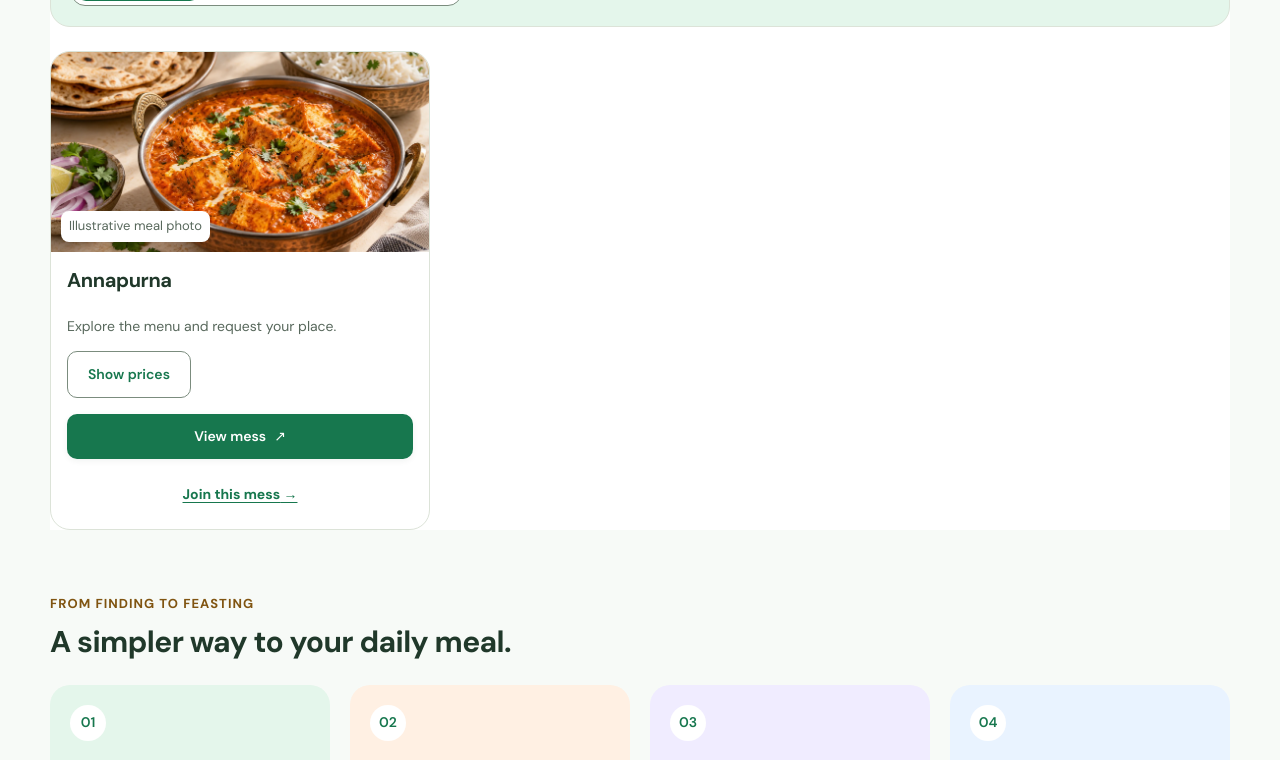
loads public price comparisons on demand and scopes both reads to the card kitchen
(page scrolled)
Click the button "Show prices". click: (129, 374)
box: [67,351,191,398]
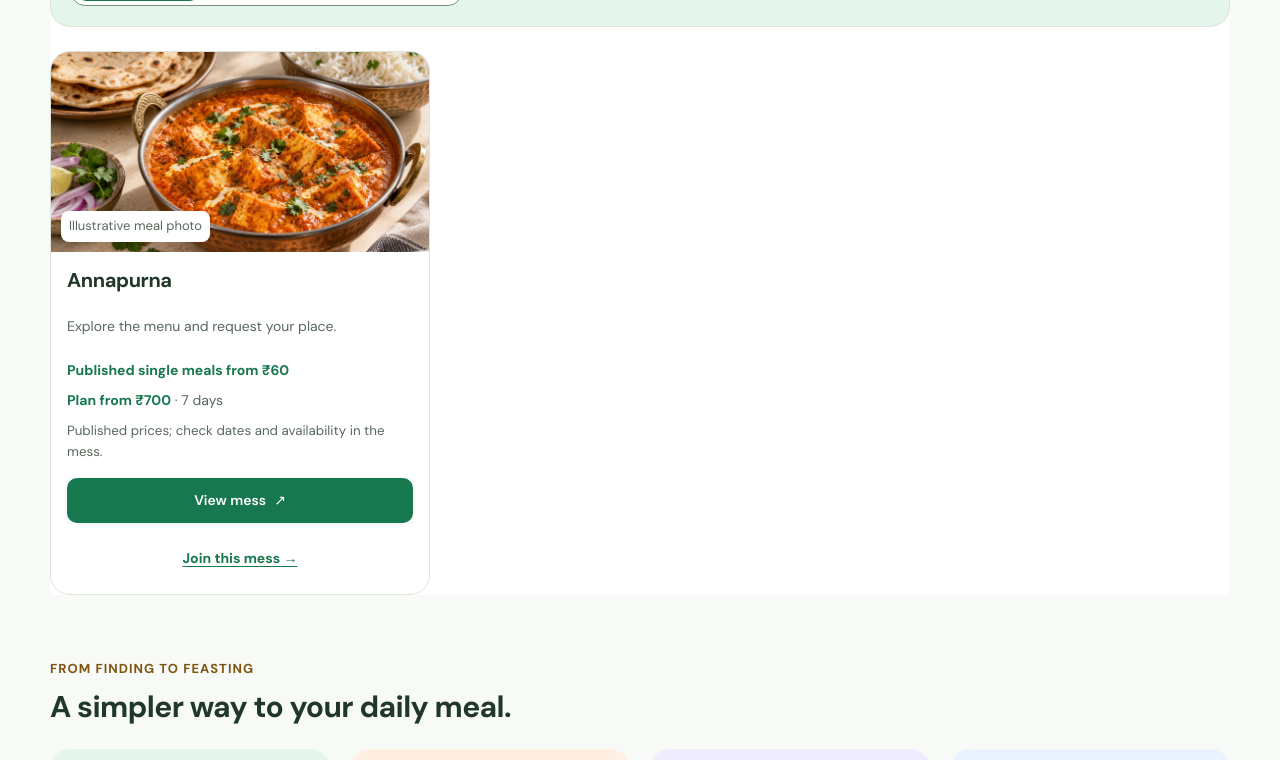
Result: the text "Published single meals from ₹60" is shown at [67,361,289,379]
Result: the text "Plan from ₹700" is shown at [67,391,171,409]
